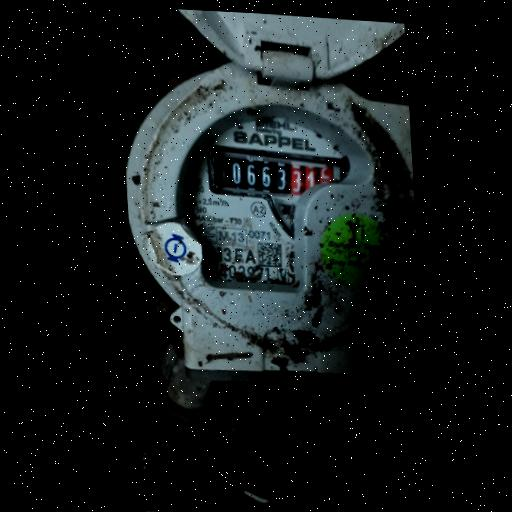0: (211, 155, 232, 187), (226, 157, 247, 189)
1: (305, 166, 322, 192)
2: (320, 167, 335, 185)
3: (289, 164, 309, 197), (274, 163, 294, 195)
6: (241, 158, 262, 190), (257, 160, 278, 192)
border_water_meter_number: (204, 144, 352, 206)
